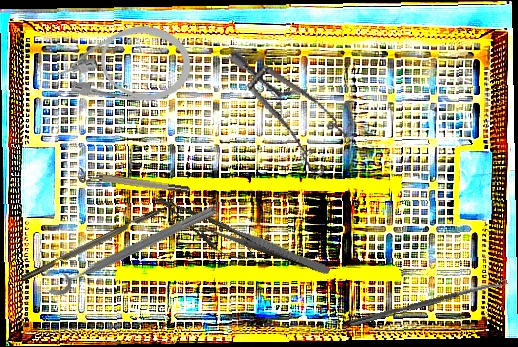Cannula: (49, 24, 191, 103)
Chopper: (17, 192, 181, 282)
Dressing Forceps: (203, 218, 333, 277)
Fixation Ring: (38, 191, 220, 301), (76, 167, 191, 200)
Needle Holder: (148, 184, 262, 270)
Speculum: (202, 49, 371, 186)
Surgical Spoon: (346, 278, 509, 329)
